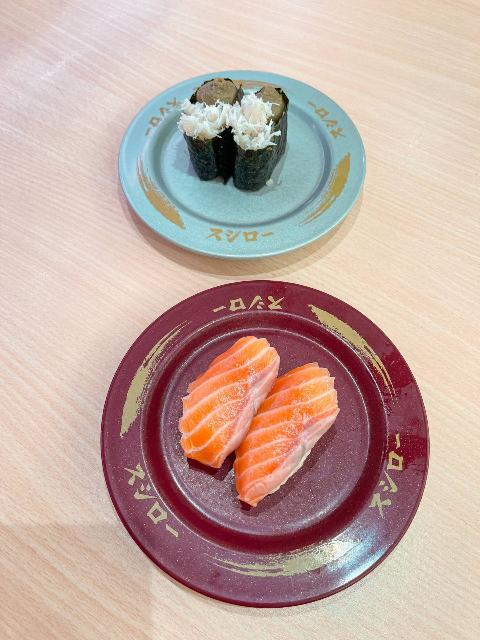janred: (132, 308, 402, 612)
janwhite: (77, 37, 390, 263)
